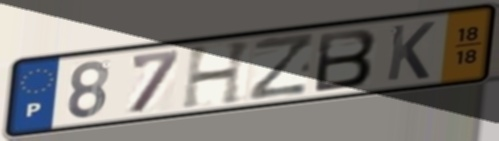7: (127, 47, 182, 116)
8: (64, 59, 112, 120)
B: (312, 26, 380, 95)
H: (179, 37, 257, 111)
K: (383, 19, 438, 84)
Z: (245, 31, 317, 104)
